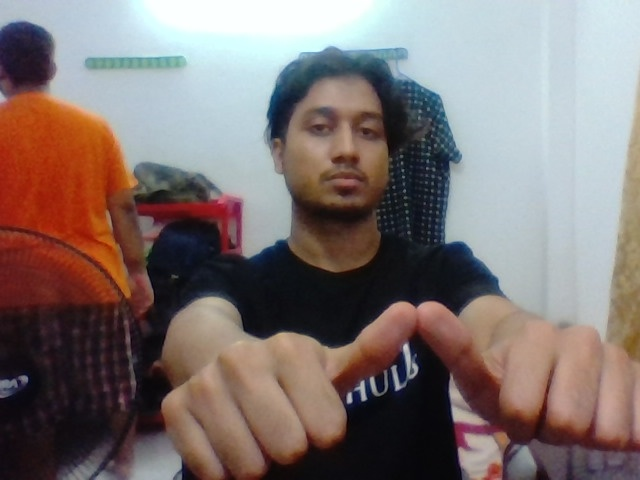A: (148, 270, 636, 474)
